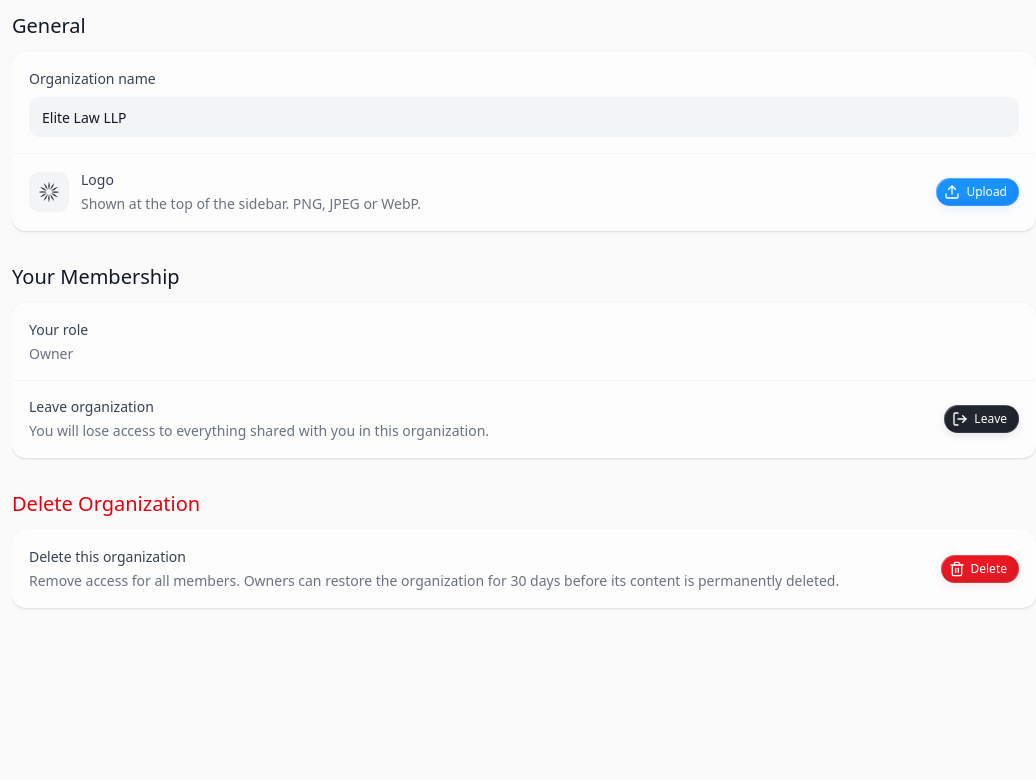
renaming › saves the name when the field is left, and tells the sidebar
Replace the text in the field labelled "Organization name" with "  Elite Law Group " at x=524, y=117, box [29, 97, 1019, 137]
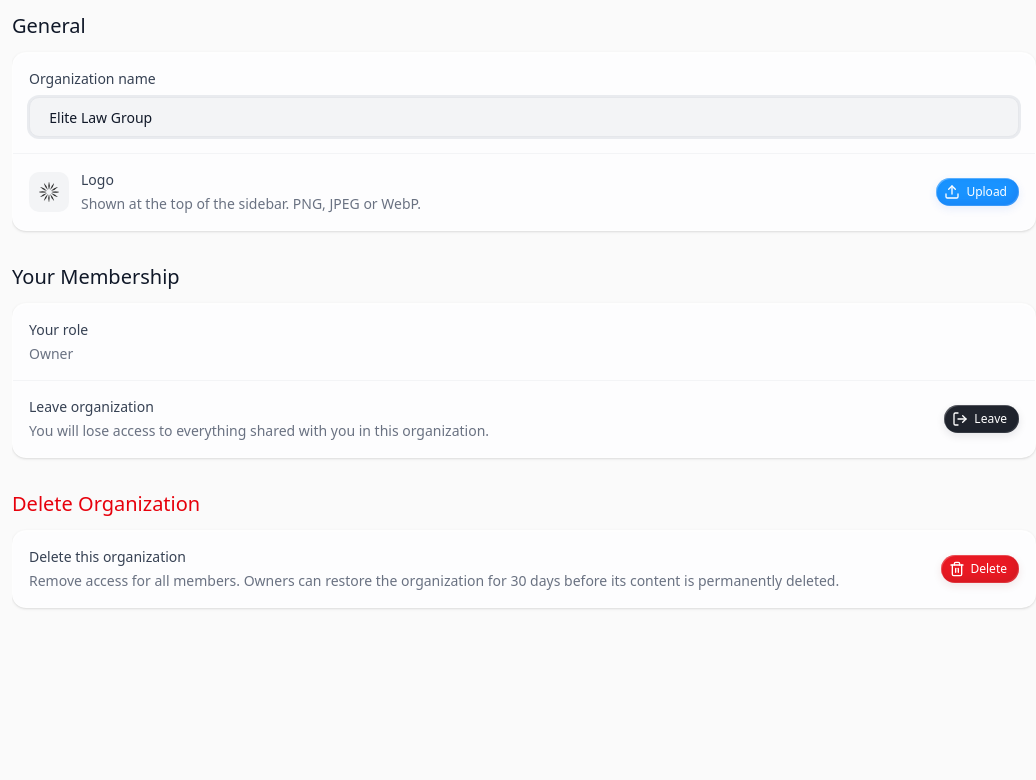
Press Tab
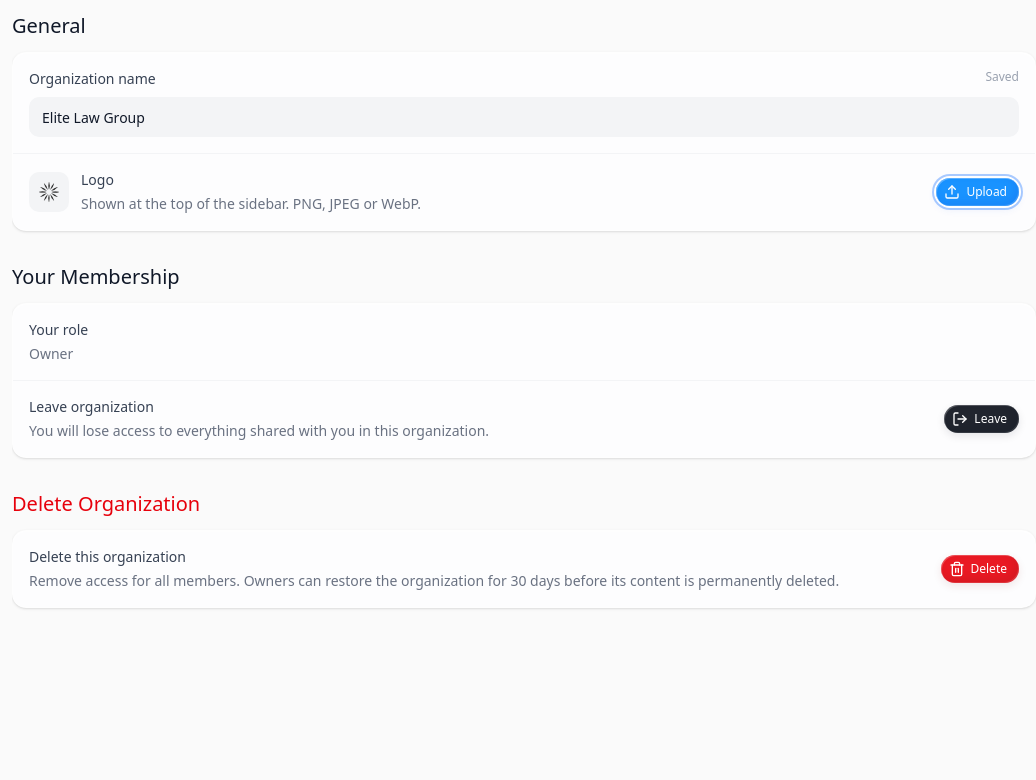
Check: the text "Saved" is shown, box [985, 69, 1019, 85]
